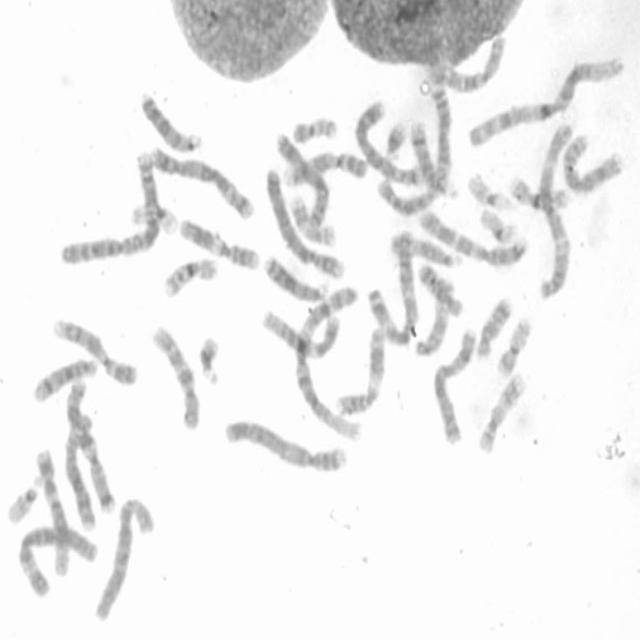A1: (466, 52, 624, 150), (294, 283, 362, 442)
A2: (60, 149, 158, 267), (376, 79, 451, 216)
A3: (538, 122, 575, 302), (367, 229, 417, 349)
B4: (265, 168, 347, 280), (222, 418, 350, 474)
B5: (150, 143, 256, 221), (354, 98, 424, 188)
C10: (150, 322, 200, 432), (424, 35, 507, 91)
C11: (336, 326, 386, 419), (180, 218, 260, 270)
C12: (36, 448, 71, 576), (262, 306, 342, 359)
C6: (95, 498, 159, 620), (18, 524, 98, 598)
C7: (422, 202, 528, 274), (64, 377, 118, 515)
C8: (560, 134, 624, 196), (64, 413, 95, 533)
C9: (52, 317, 138, 385), (282, 152, 369, 188)
D13: (139, 90, 203, 154), (263, 254, 328, 304)
D14: (408, 118, 460, 200), (30, 358, 99, 406)
D15: (412, 277, 456, 359), (390, 233, 463, 270)
E16: (161, 257, 219, 300), (509, 177, 569, 210)
E17: (476, 372, 526, 454), (290, 194, 338, 249)
E18: (416, 263, 466, 317), (476, 294, 511, 359)
F19: (129, 199, 178, 240), (478, 207, 522, 245)
F20: (496, 315, 534, 378), (290, 116, 338, 145)
G21: (382, 120, 408, 161), (199, 337, 219, 386)
G22: (467, 172, 515, 212), (6, 476, 44, 524)
X: (274, 131, 332, 231), (431, 326, 477, 447)
